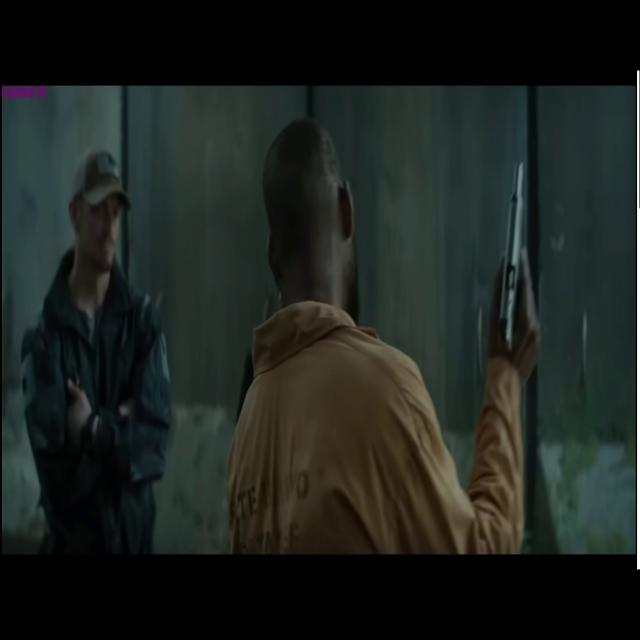weapons: (476, 129, 551, 381)
